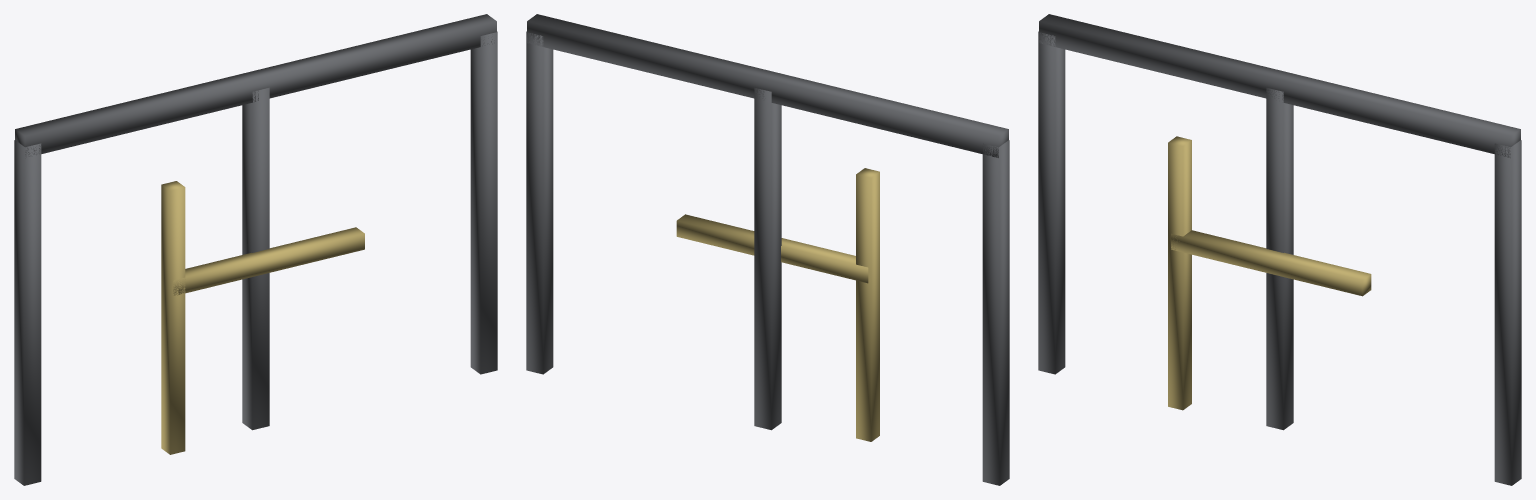
Rendered from industrial_gate_l120_h85.glb.
3 renders of one model, left to right at view 1: azimuth 30°, elevation 25°; view 2: azimuth 150°, elevation 25°; view 3: azimuth 330°, elevation 25°, orthographic.
Visible parts, largest first — view 1: world; view 2: world; view 3: world.
Boxes of the visible parts, x1,y1,x2,y2 form: world: (14, 14, 497, 485); world: (526, 14, 1009, 485); world: (1038, 14, 1521, 485).
Size of the model in its own units: 1.25 by 0.8775 by 0.0825.
